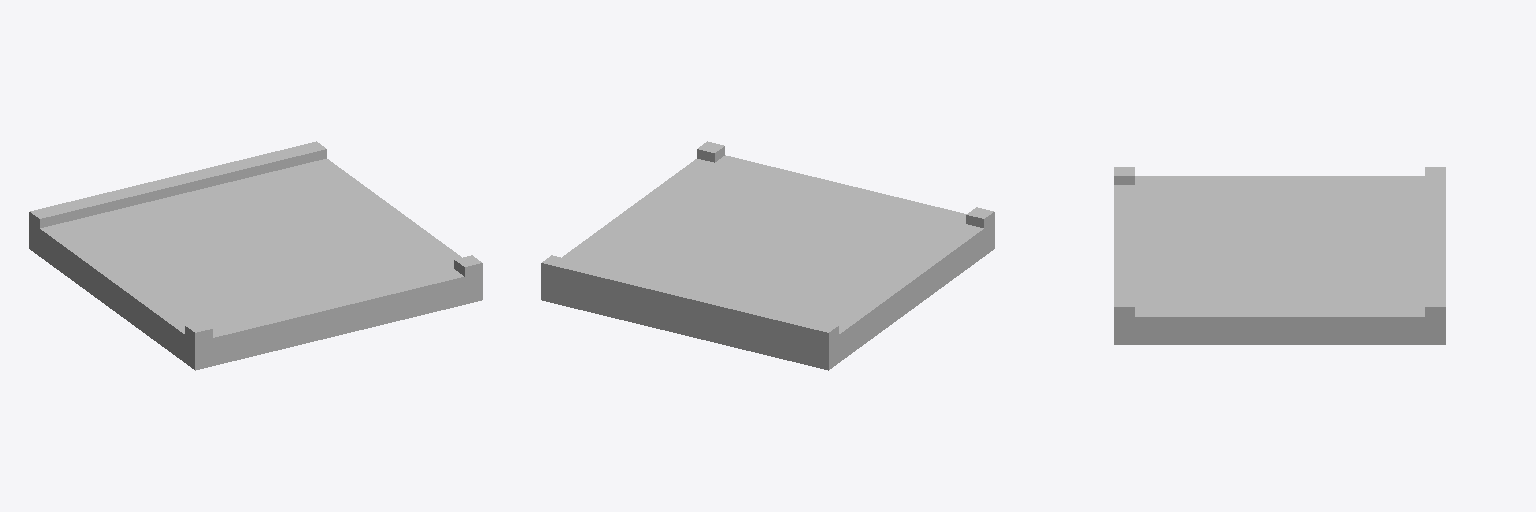
The model's file is road-T.obj.
The picture shows the model from 3 angles: view 1: azimuth 30°, elevation 25°; view 2: azimuth 150°, elevation 25°; view 3: azimuth 270°, elevation 25°; orthographic projection.
Bounding box in the file's own units: 32 × 4 × 32.